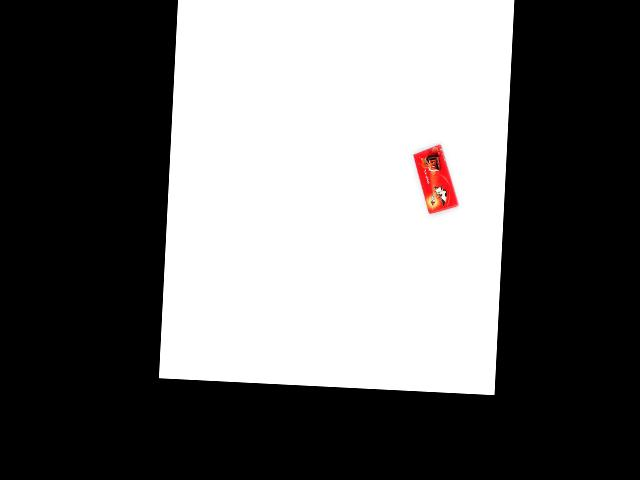chocolate: (409, 142, 461, 213)
